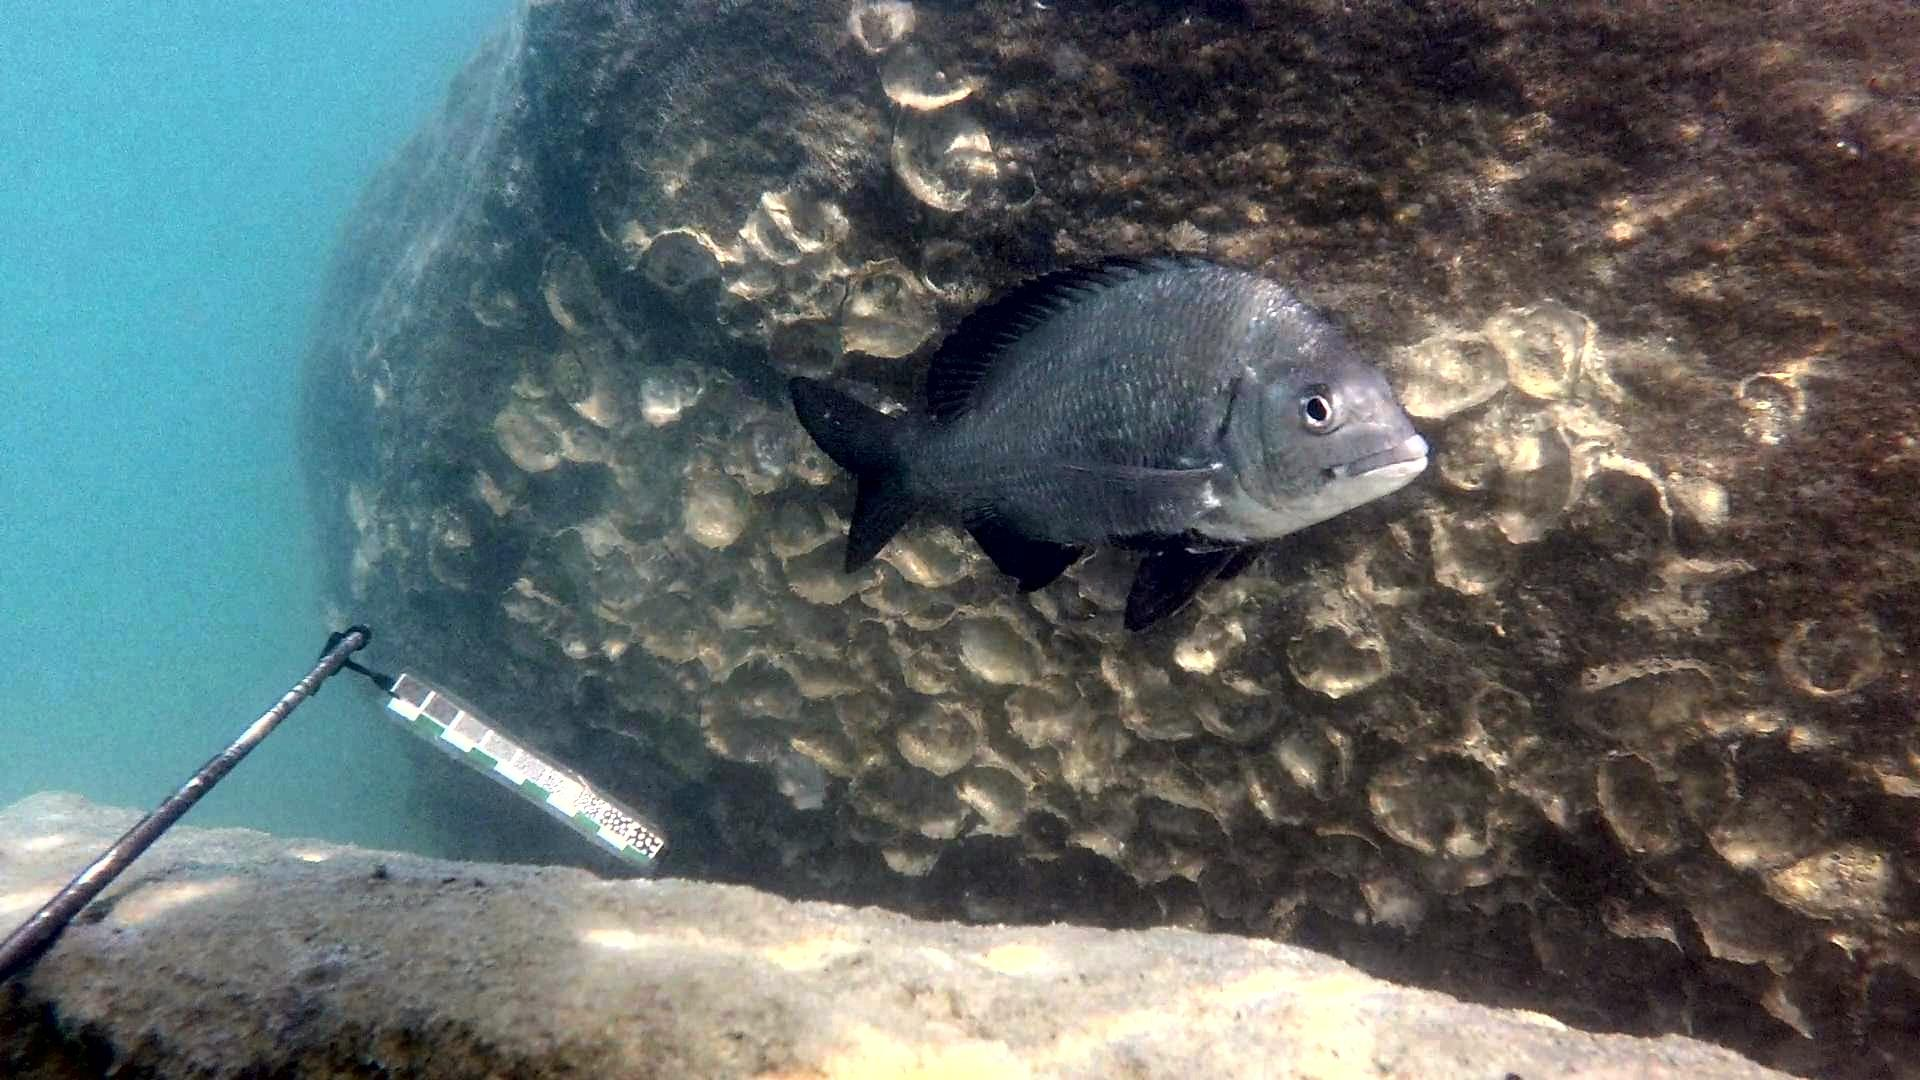acanthopagrus palmaris: (777, 241, 1437, 642)
